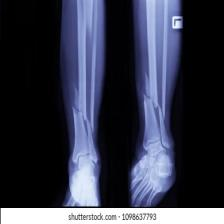open-compound-fracture: (59, 2, 182, 207)
